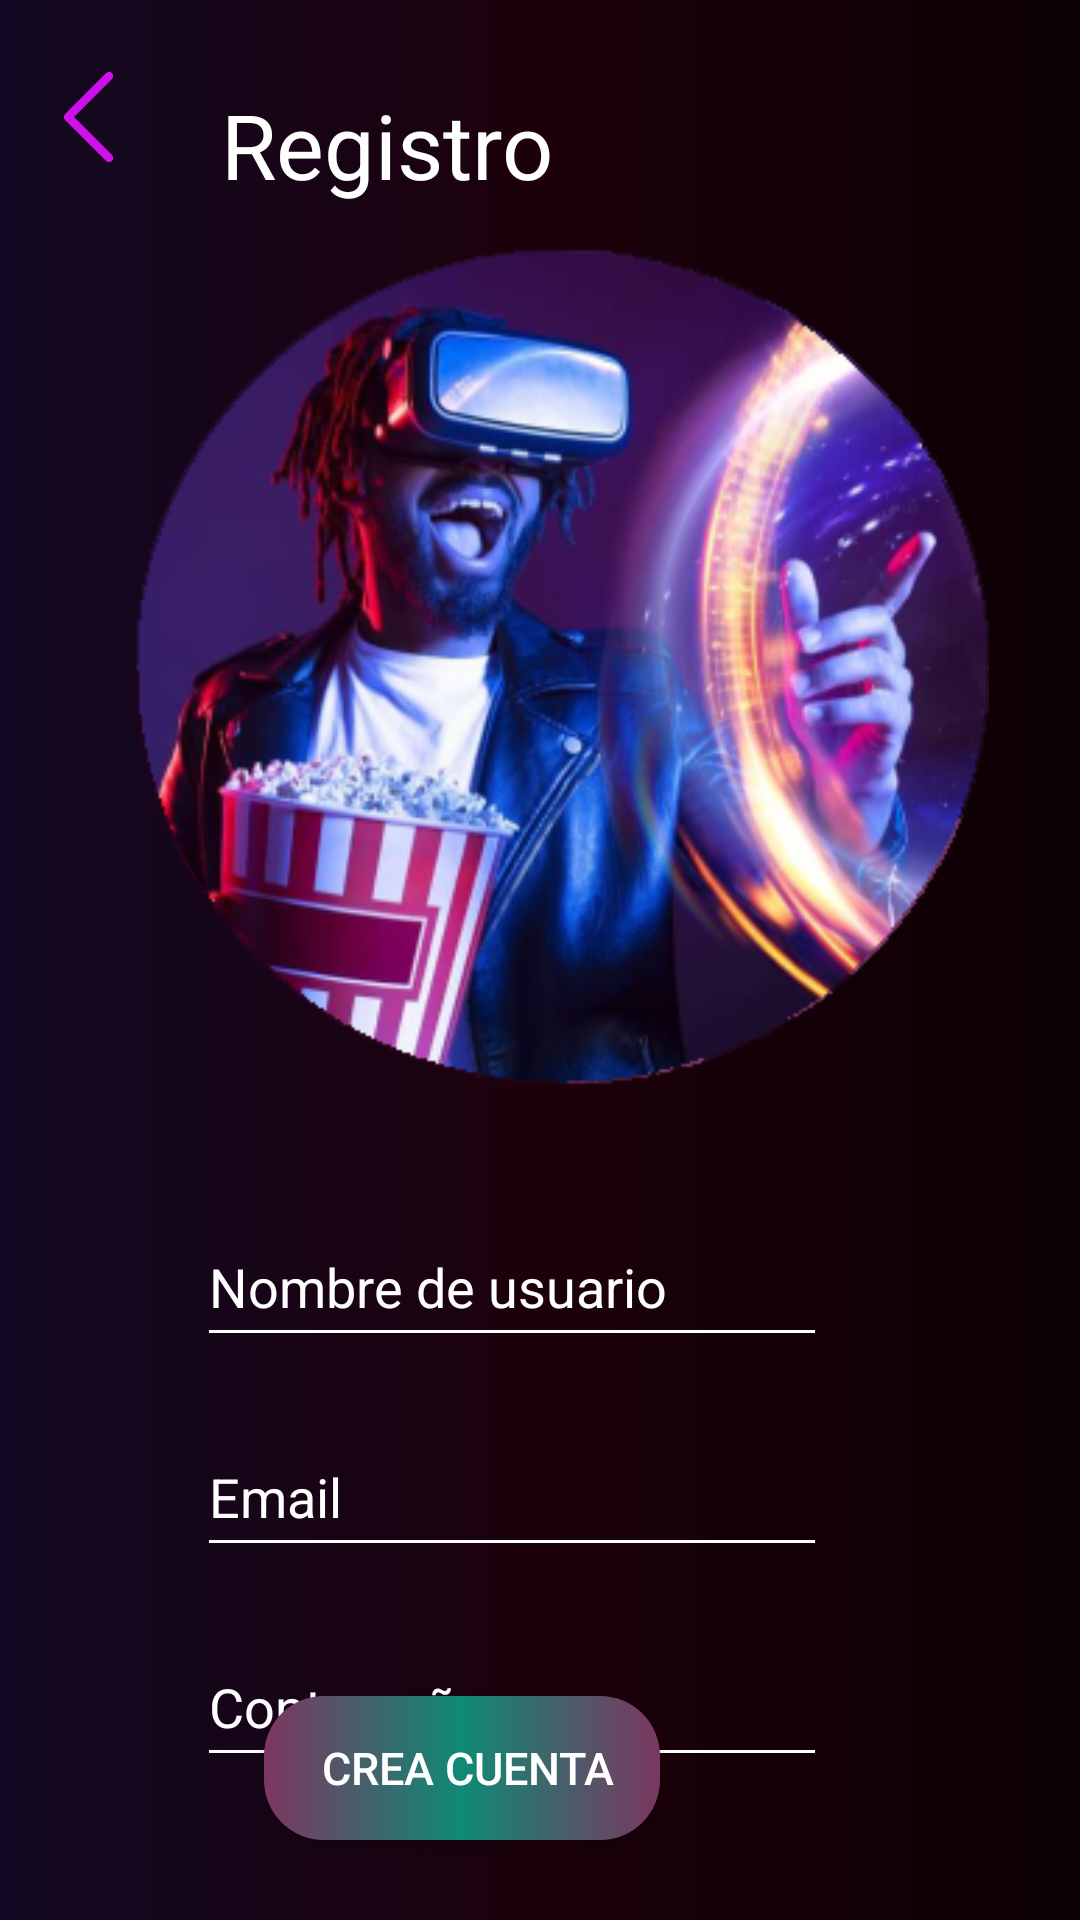

Screen size 1080*1920. Icon name, then its box in pixels as (x1, y1, x2, y2):
left arrow: (64, 72, 113, 162)
